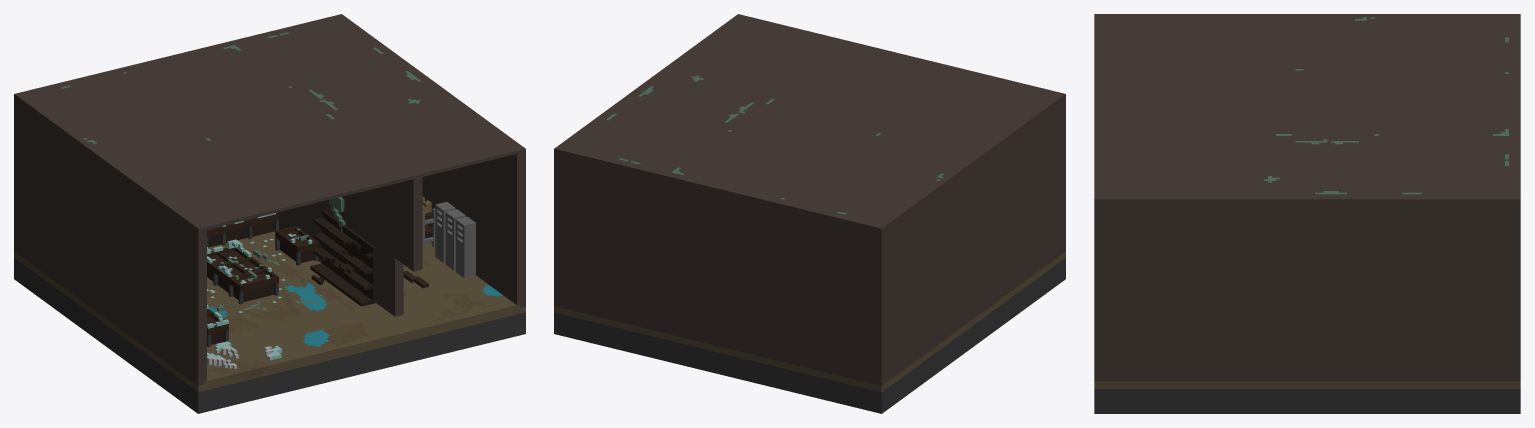
Rendered from Ruined Shop 1.obj.
The picture shows the model from 3 angles, left to right: view 1: azimuth 30°, elevation 25°; view 2: azimuth 150°, elevation 25°; view 3: azimuth 270°, elevation 25°; orthographic projection. The views are drawn at different scales.
Bounding box in the file's own units: 11.1 × 6 × 10.8.
1 material, 1 textured.
